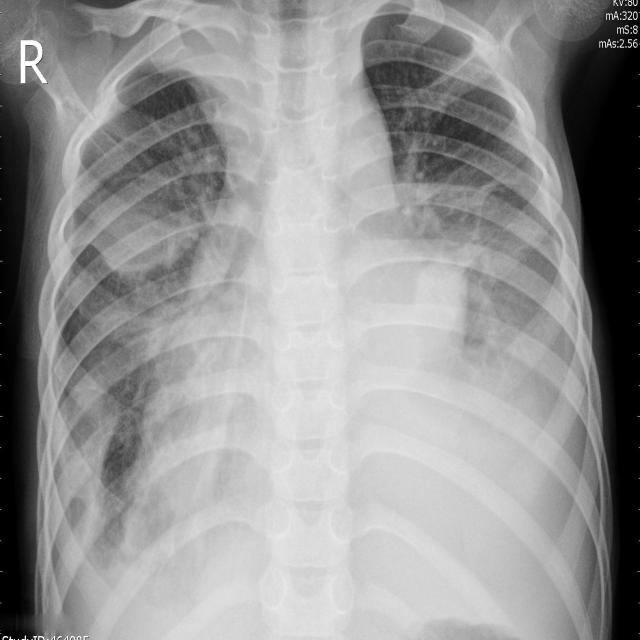low-pneumonia: (114, 212, 210, 410), (393, 121, 498, 300)
